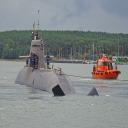submarine: (16, 40, 101, 97)
